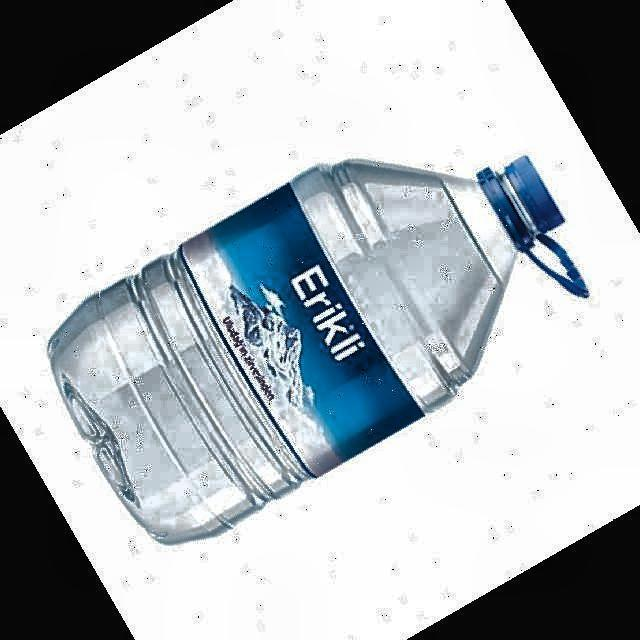plastic: (49, 156, 589, 542)
